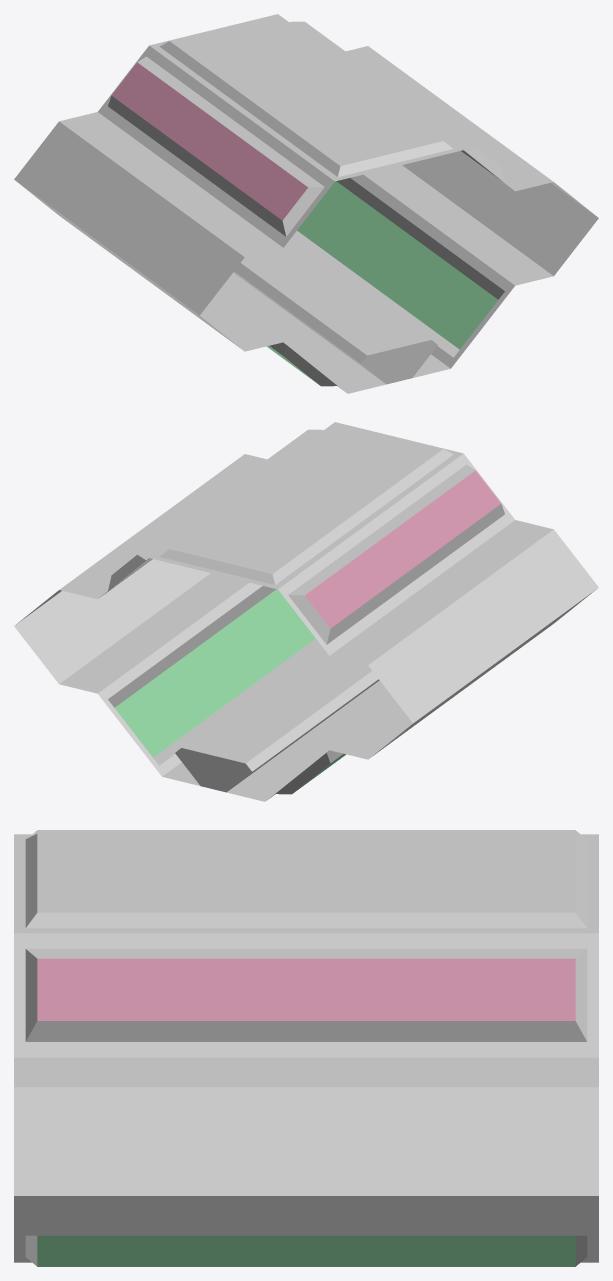
The model's file is hallway_segment_103.fbx.
The picture shows the model from 3 angles, top to bottom: view 1: azimuth 30°, elevation 25°; view 2: azimuth 150°, elevation 25°; view 3: azimuth 270°, elevation 25°; orthographic projection. The views are drawn at different scales.
Parts seen in each view (by area): view 1: hallway_segment_001; view 2: hallway_segment_001; view 3: hallway_segment_001.
Part boxes in pixels (<box>): hallway_segment_001: <box>14,14,598,393</box>; hallway_segment_001: <box>14,422,598,801</box>; hallway_segment_001: <box>14,830,598,1266</box>.
Bounding box in the file's own units: 6200 × 3300 × 5000.
